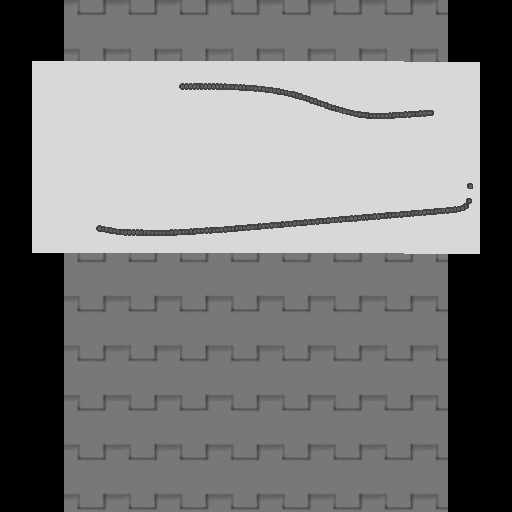Defect: (70, 79, 177, 237)
